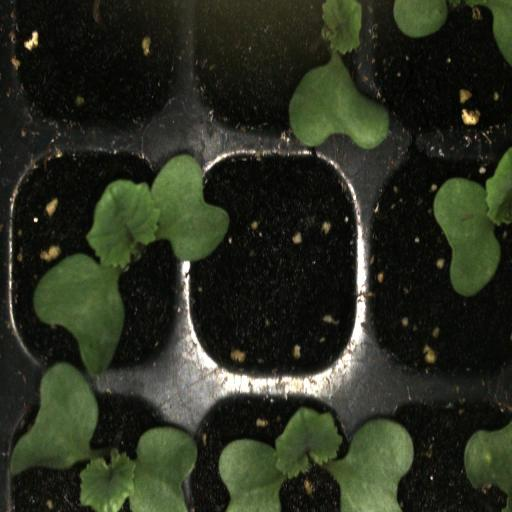Folha: (393, 0, 512, 64), (464, 423, 512, 512)
Germinacao: (5, 139, 184, 374), (184, 374, 372, 512), (186, 0, 364, 138), (6, 376, 183, 512)
